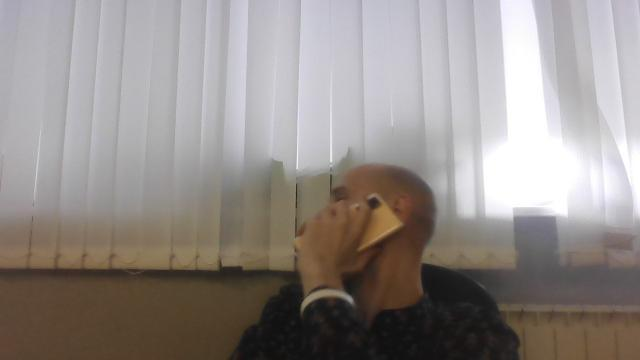PhoneUse: (292, 188, 406, 256)
